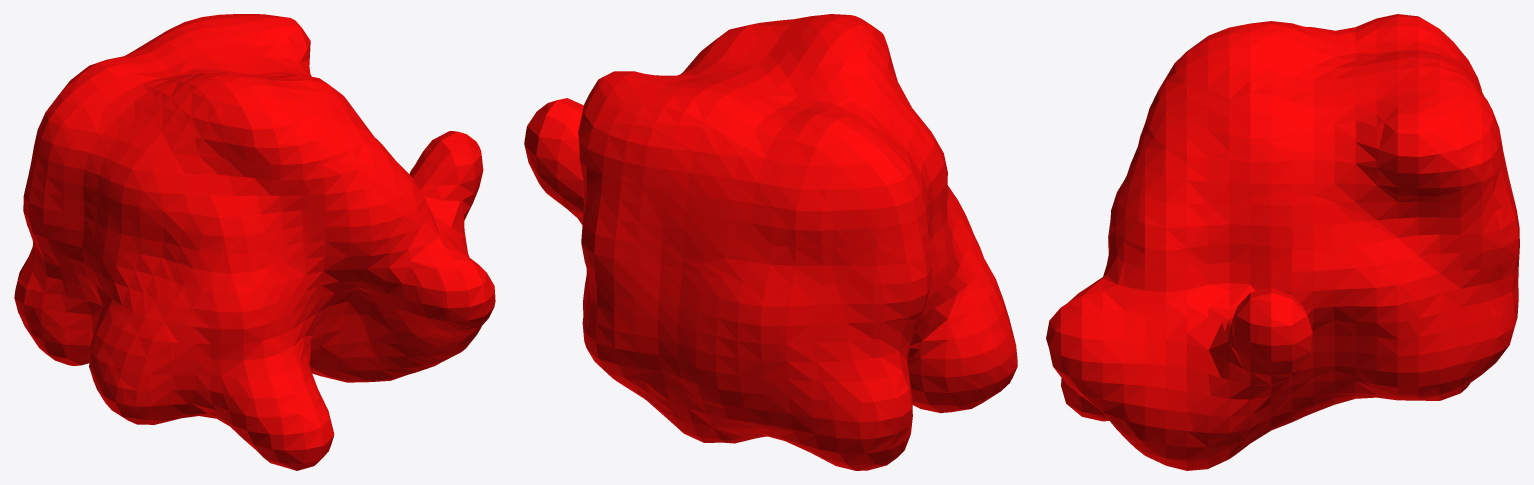
Rendered from nudJ_coarse.dae.
3 renders of one model, left to right at view 1: azimuth 30°, elevation 25°; view 2: azimuth 150°, elevation 25°; view 3: azimuth 270°, elevation 25°, orthographic. The views are drawn at different scales.
Parts seen in each view (by area): view 1: nudJ; view 2: nudJ; view 3: nudJ.
Boxes of the visible parts, left/top/right/bottom form: nudJ: left=14, top=14, right=495, bottom=470; nudJ: left=524, top=14, right=1017, bottom=470; nudJ: left=1046, top=14, right=1519, bottom=470.
Bounding box in the file's own units: 47.73 × 38.96 × 42.93.
